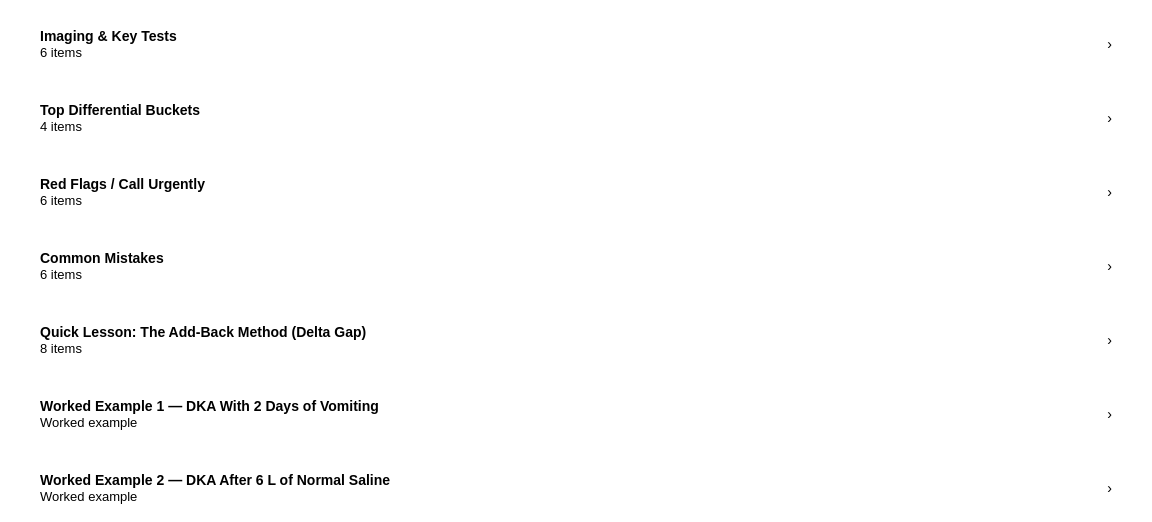
Test case: InpatientGuideView › teaches the add-back method in the acid-base guide
This screenshot has width=1152, height=522.
(page scrolled)
Click the button "Quick Lesson: The Add-Back Method (Delta Gap) 8 items ›".
click(203, 332)  # box [24,310,1128,370]
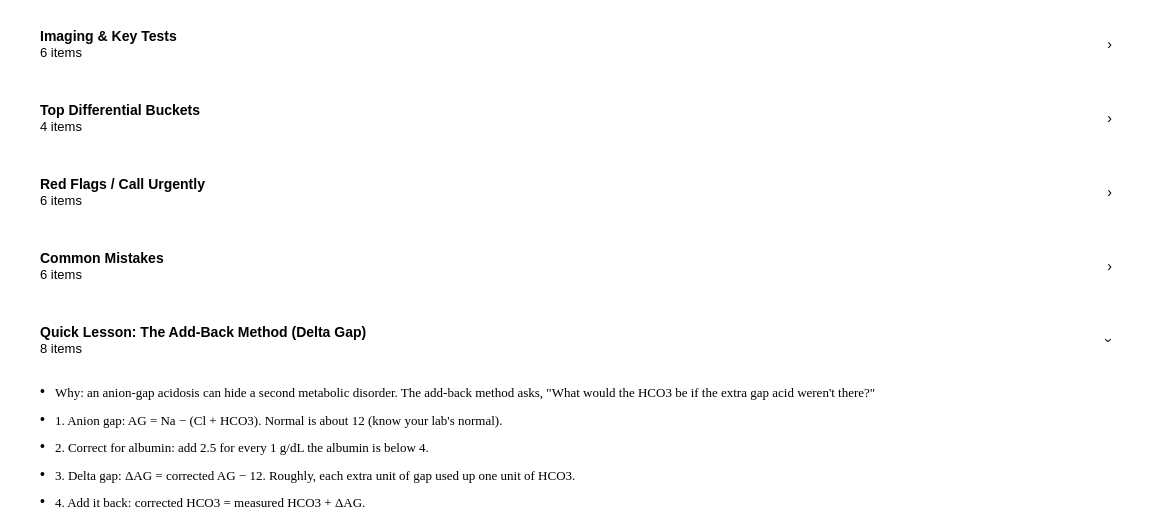
Expected: the text "4. Add it back: corrected HCO3 = measured HCO3 + ΔAG." is shown, [55,493,365,513]
